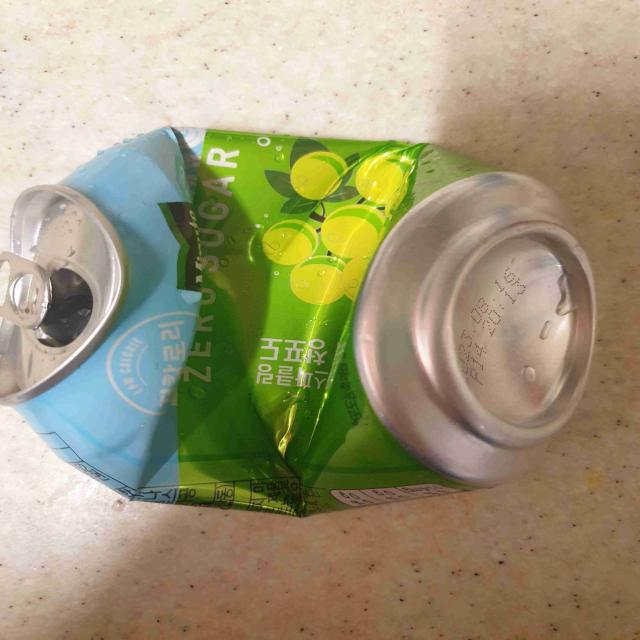kimloai: (0, 129, 594, 515)
